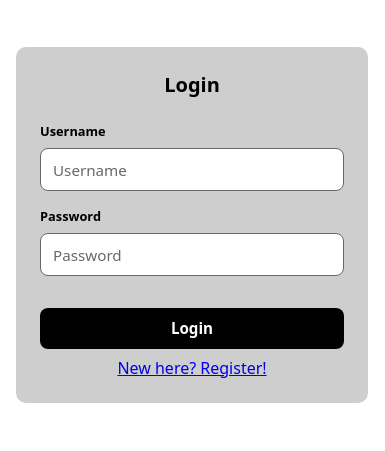
LoginPage › shows generic login error on unexpected failure
In the field labelled "Username": (192, 170) [40,148,344,191], type "tester"
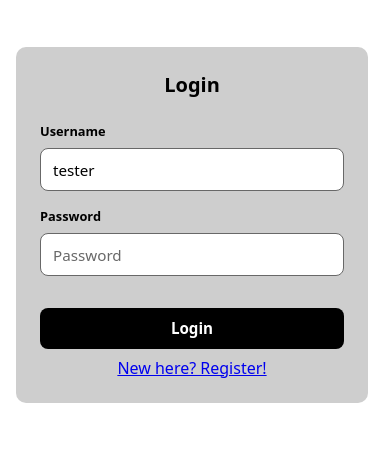
In the password field labelled "Password": (192, 254) [40,233,344,276], type "password"
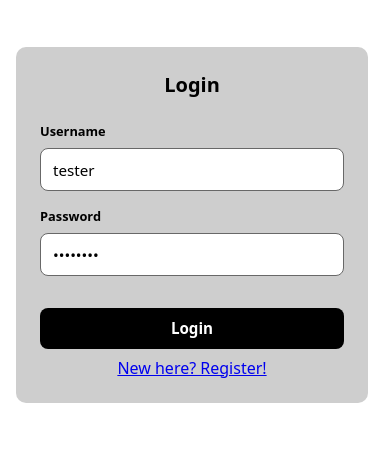
Submit the form with id "login-form"
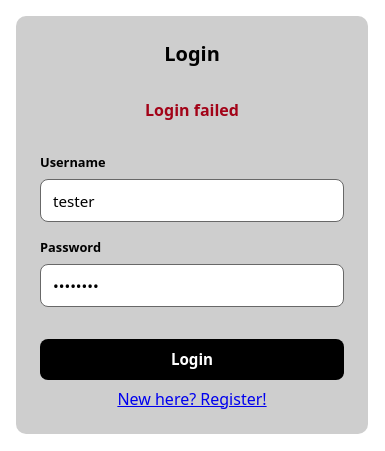
Result: the text "Login failed" is shown at [145,99,239,121]
